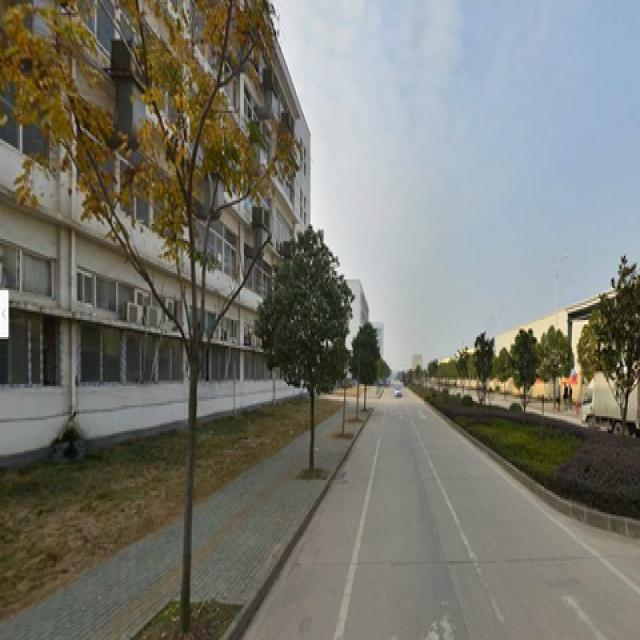cinn: (278, 237, 334, 467), (354, 320, 374, 410)
koel: (64, 11, 243, 591)
